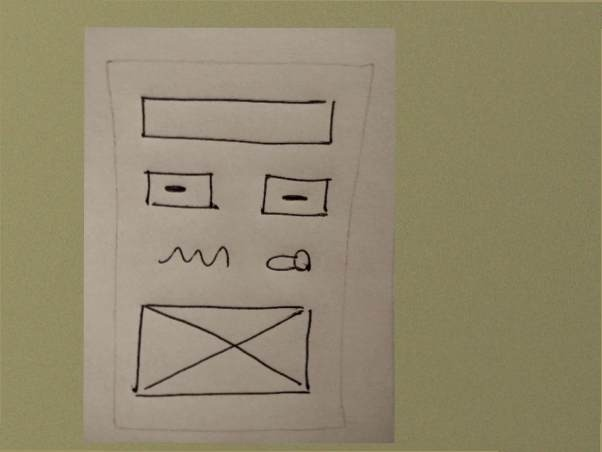button: (137, 164, 226, 219), (255, 169, 337, 224)
image: (129, 302, 318, 400)
switch: (258, 245, 320, 279)
text: (154, 238, 236, 271)
text_input: (133, 91, 338, 152)
